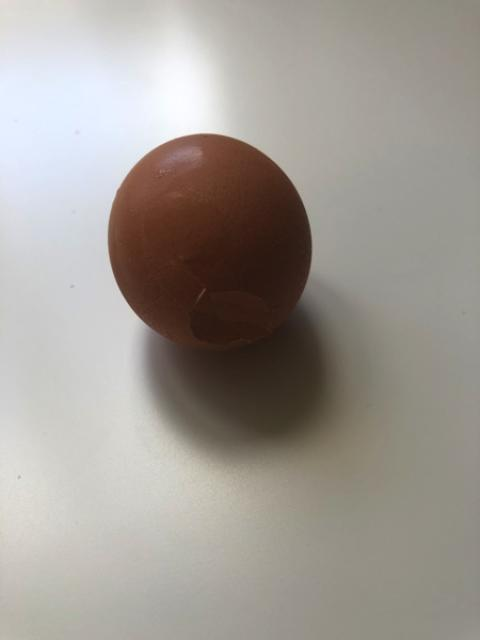Roto: (107, 131, 313, 352)
